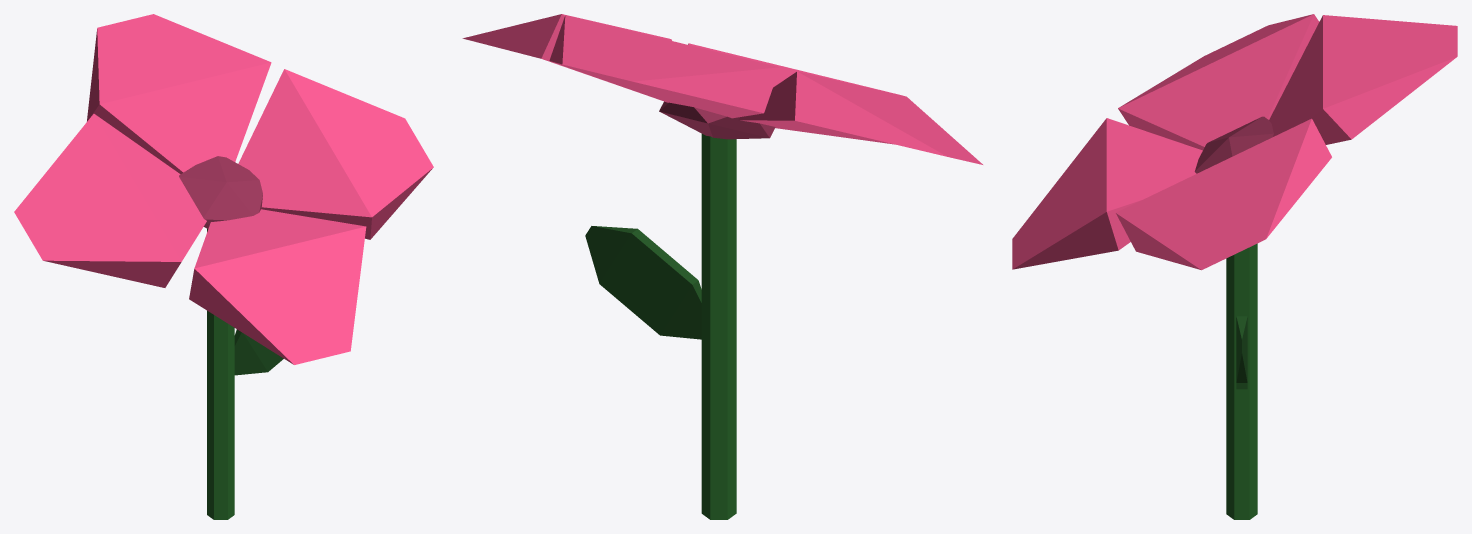
The model's file is Flower_2_Pink.fbx.
3 renders of one model, left to right at view 1: azimuth 30°, elevation 25°; view 2: azimuth 150°, elevation 25°; view 3: azimuth 270°, elevation 25°, orthographic. The views are drawn at different scales.
Visible parts, largest first — view 1: Flower_2_Pink; view 2: Flower_2_Pink; view 3: Flower_2_Pink.
Boxes of the visible parts, x1=… form: Flower_2_Pink: x1=14, y1=14, x2=433, y2=519; Flower_2_Pink: x1=462, y1=14, x2=982, y2=519; Flower_2_Pink: x1=1012, y1=14, x2=1457, y2=519.
Size of the model in its own units: 45.18 by 46.83 by 39.92.
